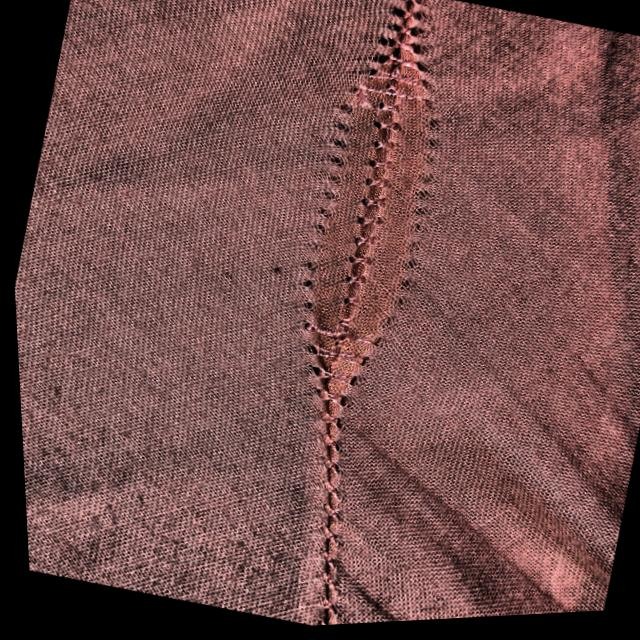seam: (252, 27, 494, 438)
